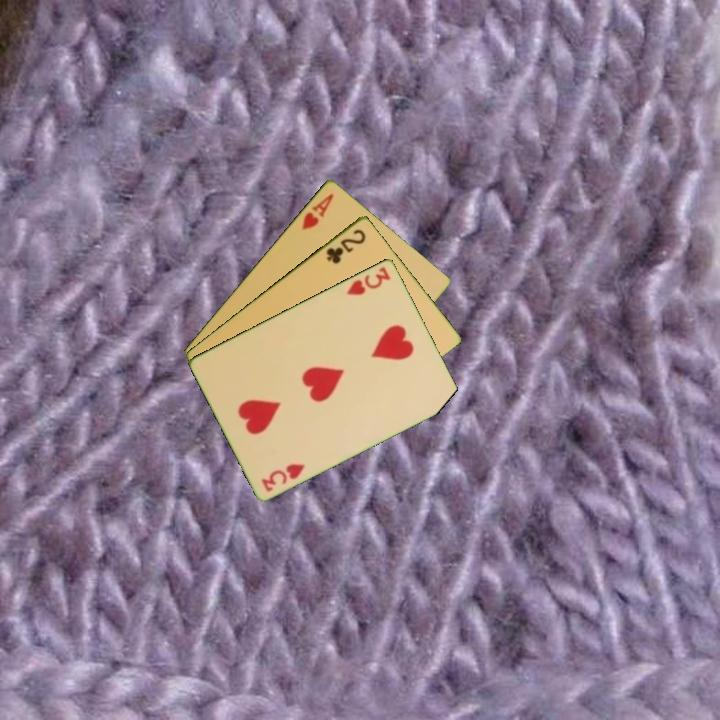2c: (322, 225, 369, 266)
3h: (343, 263, 393, 298), (258, 460, 308, 494)
Ah: (298, 189, 337, 232)
